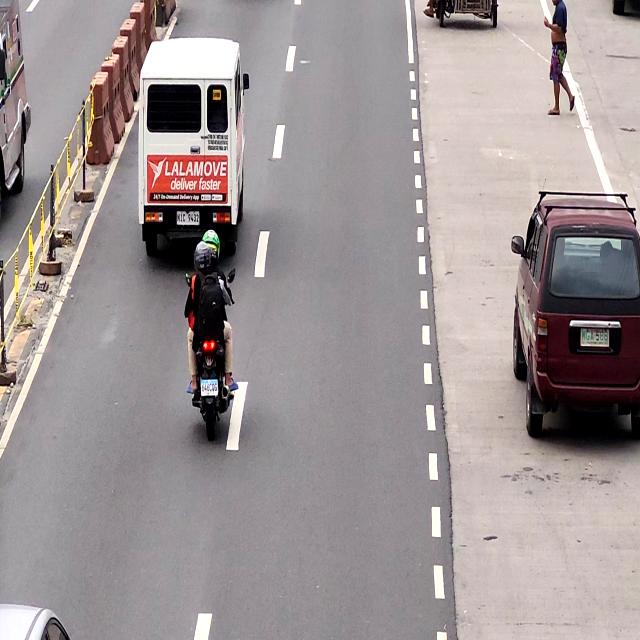Car: (518, 193, 640, 439), (136, 37, 252, 238)
License-Plate: (576, 324, 612, 352), (175, 207, 201, 226), (199, 378, 220, 398)
Motorcycle: (190, 234, 230, 436)
